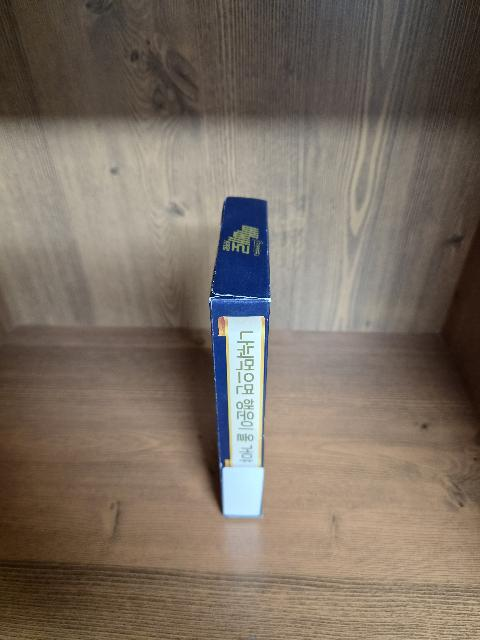pepero: (209, 196, 272, 517)
